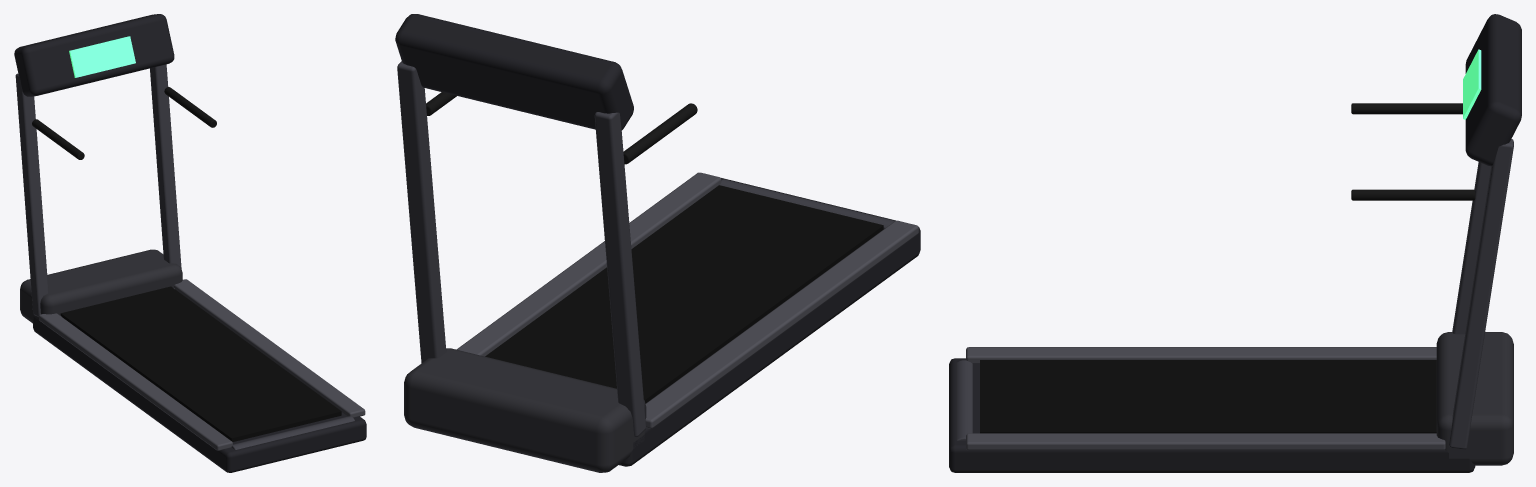
Rendered from treadmill.glb.
3 views of the same model, side by side, from view 1: azimuth 30°, elevation 25°; view 2: azimuth 150°, elevation 25°; view 3: azimuth 270°, elevation 25° (orthographic). The views are drawn at different scales.
Parts seen in each view (by area): view 1: Cube.001, Cube, Cube.007, Cube.004, Cube.005, Cube.002, Cube.003, Cube.006, Cube.008, Cylinder.001, Cylinder.002, Cylinder.003; view 2: Cube.001, Cube.004, Cube.007, Cube.005, Cube.002, Cube.006, Cube, Cube.003, Cylinder.001, Cylinder.002; view 3: Cube.001, Cube, Cube.003, Cube.004, Cube.007, Cube.002, Cube.006, Cube.005, Cylinder.003, Cylinder.002, Cylinder.001, Cube.008.
Part boxes in pixels (x1=…): Cube.001: x1=60, y1=286, x2=341, y2=441; Cube: x1=33, y1=317, x2=366, y2=472; Cube.007: x1=14, y1=14, x2=174, y2=96; Cube.004: x1=20, y1=249, x2=182, y2=323; Cube.005: x1=15, y1=73, x2=48, y2=316; Cube.002: x1=39, y1=313, x2=232, y2=450; Cube.003: x1=174, y1=279, x2=365, y2=417; Cube.006: x1=150, y1=64, x2=181, y2=268; Cube.008: x1=69, y1=36, x2=135, y2=77; Cylinder.001: x1=231, y1=416, x2=354, y2=449; Cylinder.002: x1=32, y1=119, x2=84, y2=159; Cylinder.003: x1=164, y1=87, x2=216, y2=127; Cube.001: x1=485, y1=185, x2=883, y2=403; Cube.004: x1=404, y1=348, x2=646, y2=472; Cube.007: x1=395, y1=14, x2=633, y2=130; Cube.005: x1=594, y1=112, x2=645, y2=437; Cube.002: x1=645, y1=220, x2=918, y2=428; Cube.006: x1=397, y1=61, x2=446, y2=363; Cube: x1=619, y1=178, x2=920, y2=466; Cube.003: x1=456, y1=172, x2=721, y2=356; Cylinder.001: x1=720, y1=179, x2=894, y2=227; Cylinder.002: x1=623, y1=103, x2=697, y2=164; Cube.001: x1=980, y1=360, x2=1436, y2=433; Cube: x1=949, y1=358, x2=1475, y2=472; Cube.003: x1=966, y1=433, x2=1445, y2=450; Cube.004: x1=1436, y1=332, x2=1513, y2=465; Cube.007: x1=1465, y1=14, x2=1521, y2=166; Cube.002: x1=966, y1=347, x2=1436, y2=363; Cube.006: x1=1449, y1=139, x2=1513, y2=449; Cube.005: x1=1452, y1=162, x2=1491, y2=334; Cylinder.003: x1=1351, y1=189, x2=1475, y2=200; Cylinder.002: x1=1351, y1=103, x2=1462, y2=114; Cylinder.001: x1=956, y1=360, x2=972, y2=440; Cube.008: x1=1463, y1=49, x2=1481, y2=119.
Bounding box in the file's own units: 0.74 × 1.33 × 1.85.
